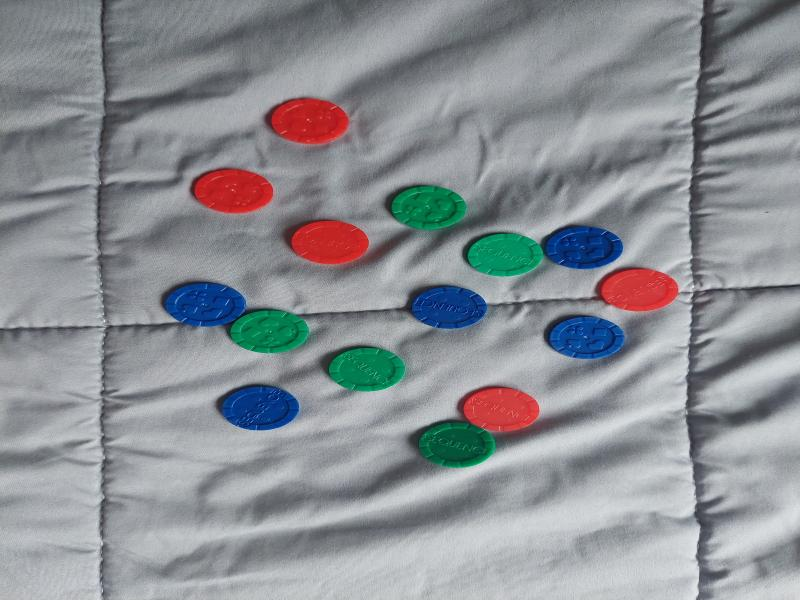Blue_Token: (397, 274, 504, 340), (148, 266, 246, 334), (533, 208, 643, 266), (535, 295, 624, 366), (214, 366, 305, 434)
Green_Token: (397, 418, 508, 481), (372, 173, 465, 239), (222, 302, 327, 358), (318, 331, 405, 391), (446, 229, 538, 277)
Red_Token: (159, 148, 290, 220), (579, 262, 698, 321), (258, 95, 358, 157), (279, 210, 372, 274), (457, 376, 534, 441)
